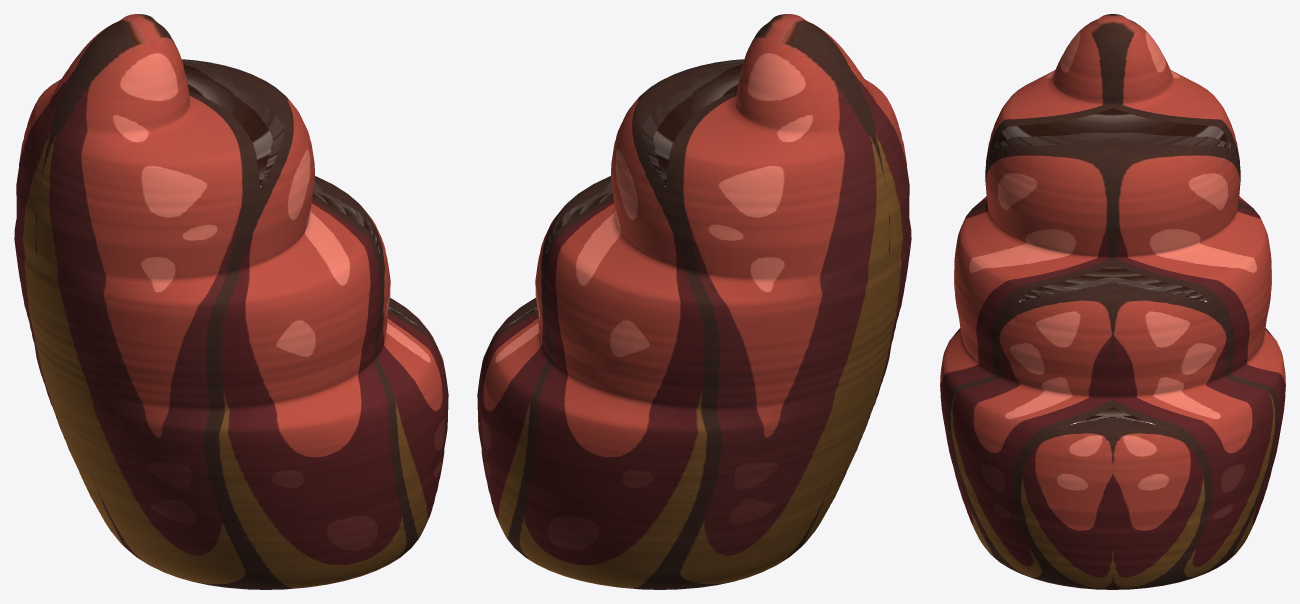
File: red_coral.glb
The picture shows the model from 3 angles, left to right: view 1: azimuth 30°, elevation 25°; view 2: azimuth 150°, elevation 25°; view 3: azimuth 270°, elevation 25°; orthographic projection. The views are drawn at different scales.
Parts seen in each view (by area): view 1: red_coral; view 2: red_coral; view 3: red_coral.
Boxes of the visible parts, x1,y1,x2,y2 form: red_coral: [14, 14, 448, 589]; red_coral: [477, 14, 911, 589]; red_coral: [940, 14, 1285, 589].
Size of the model in its own units: 1 by 1.39 by 0.9051.
1 material, 1 textured.
